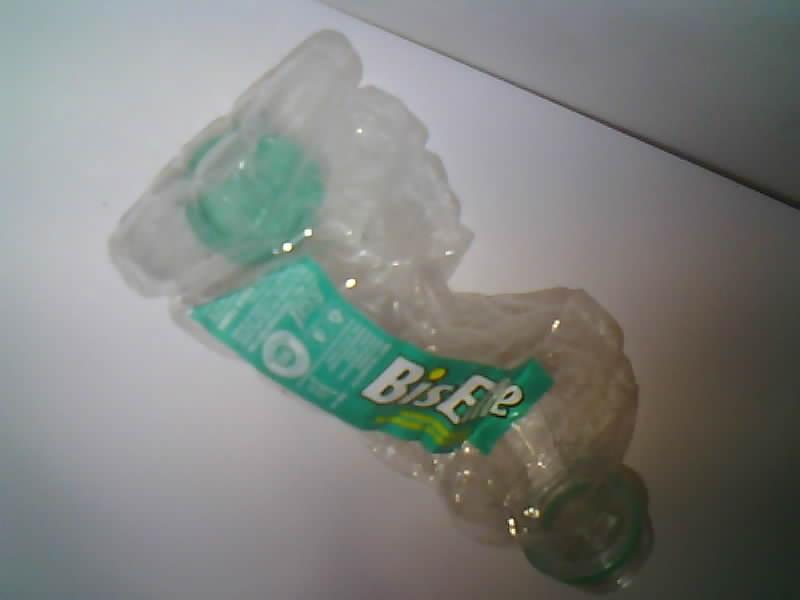non-biodegradable: (111, 31, 647, 586)
